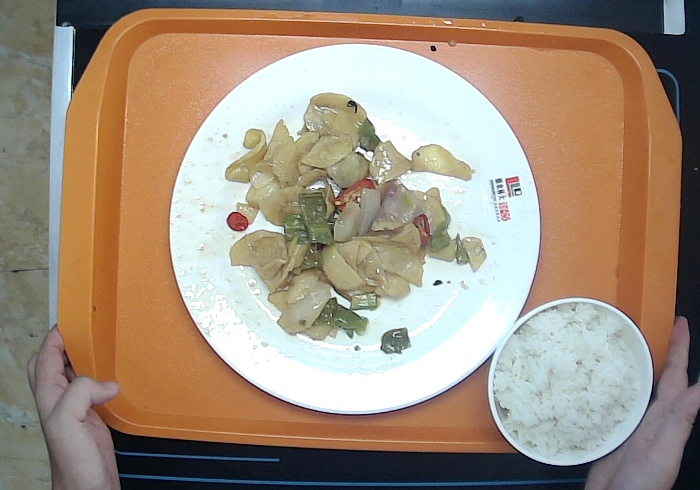ZNLD-Da_Yuan_Pan: (167, 44, 539, 417)
ZNLD-Fan_Wan: (489, 298, 651, 468)
